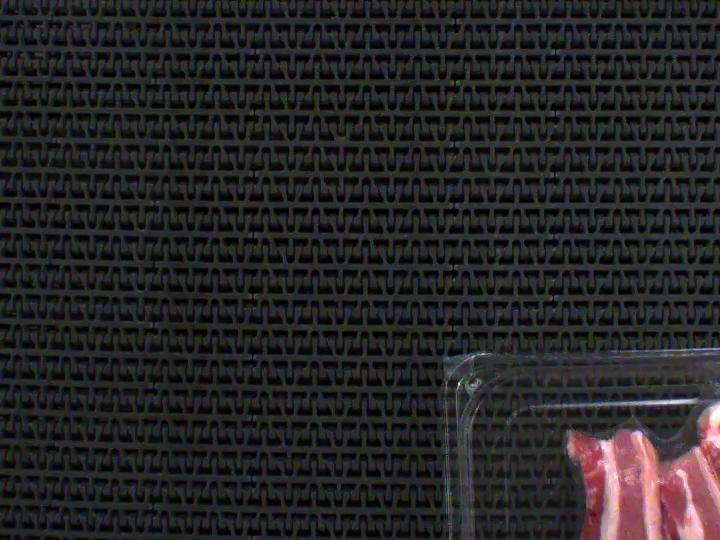unsealed: (550, 357, 720, 461)
